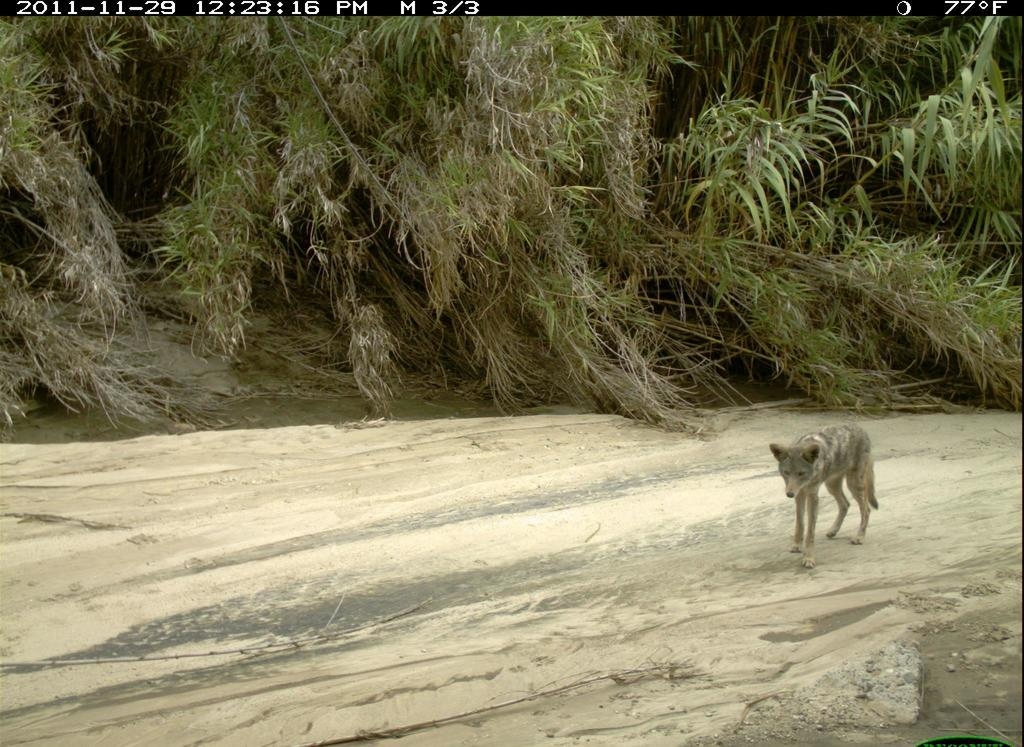coyote: (773, 410, 899, 581)
